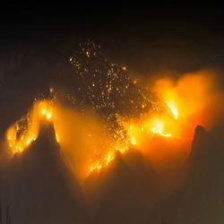fire: (8, 94, 205, 175)
